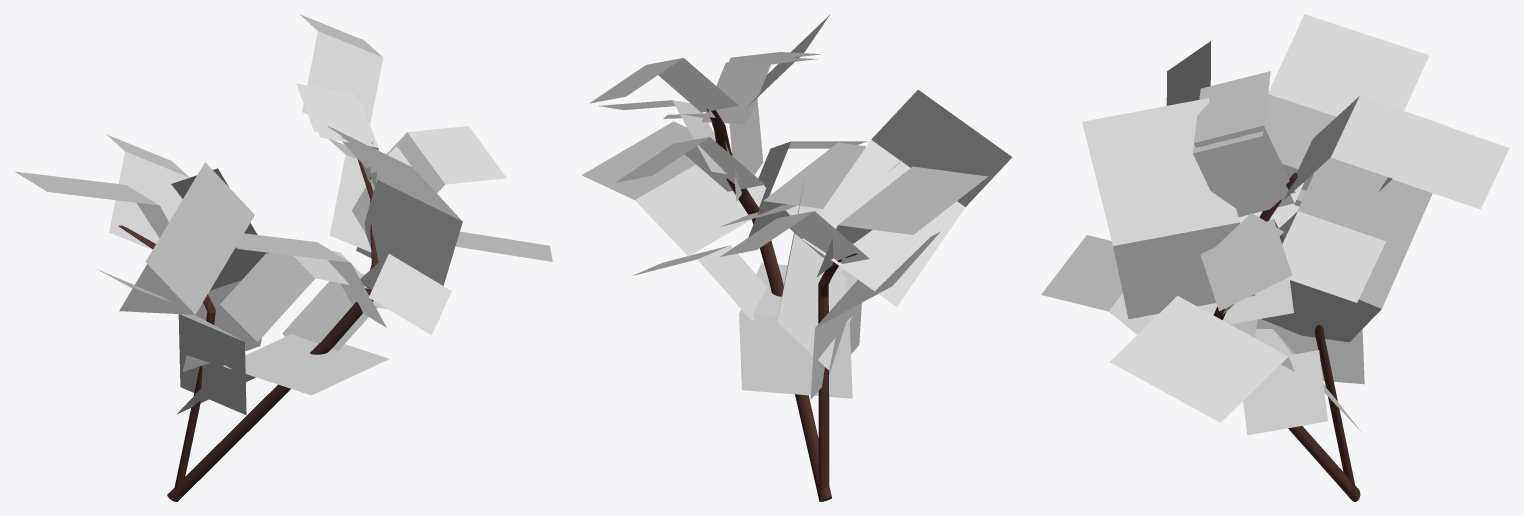
Rendered from plantefinal.fbx.
3 views of the same model, side by side, from view 1: azimuth 30°, elevation 25°; view 2: azimuth 150°, elevation 25°; view 3: azimuth 270°, elevation 25° (orthographic). The views are drawn at different scales.
Parts seen in each view (by area): view 1: Plane.008; view 2: Plane.008; view 3: Plane.008.
Part boxes in pixels (x1=…): Plane.008: x1=14, y1=14, x2=552, y2=501; Plane.008: x1=582, y1=15, x2=1012, y2=501; Plane.008: x1=1041, y1=14, x2=1509, y2=501.
Size of the model in its own units: 0.0899 by 0.0801 by 0.0703.
